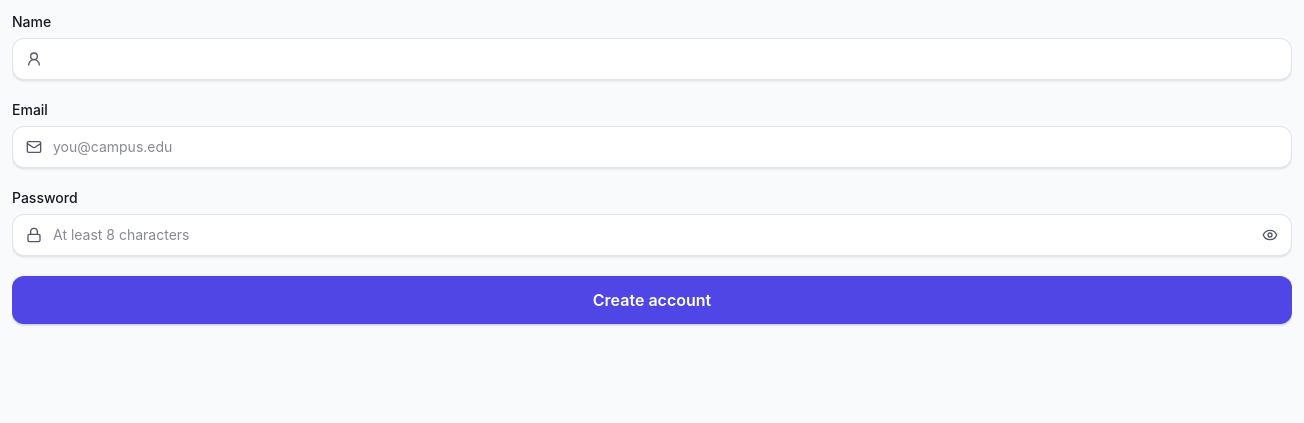
Test: RegistrationForm validation › shows every error when submitting an empty form
Click the button "Create account" at (652, 300), box [12, 276, 1292, 324]
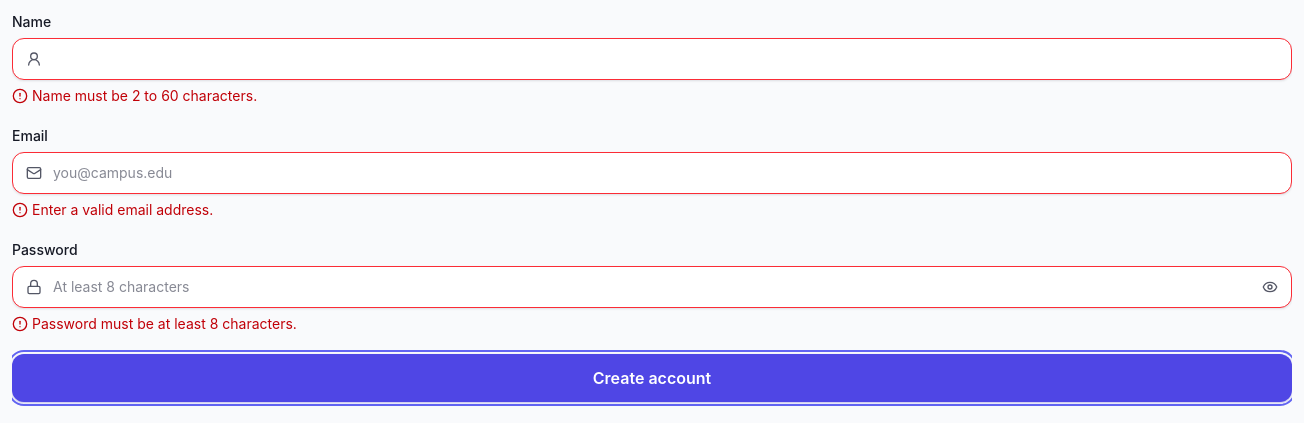
Now the text "Name must be 2 to 60 characters." is shown, box [12, 87, 257, 104]
Now the text "Enter a valid email address." is shown, box [12, 201, 213, 218]
Now the text "Password must be at least 8 characters." is shown, box [12, 315, 297, 332]
